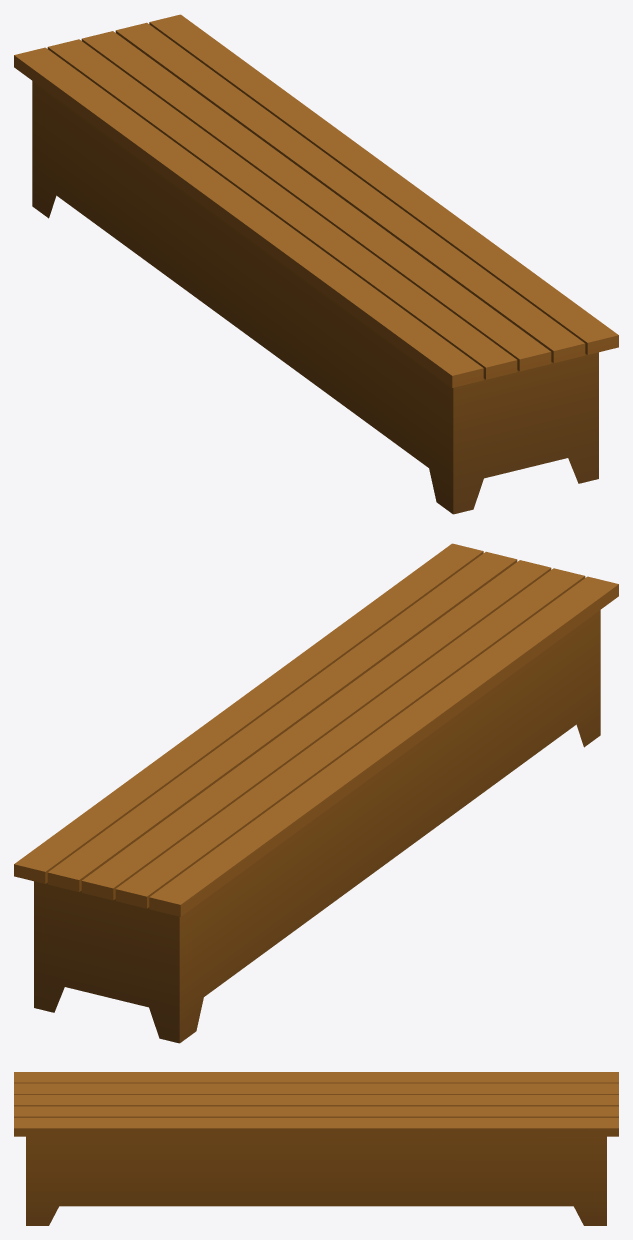
The model's file is CR_Bench_001.FBX.
The picture shows the model from 3 angles, top to bottom: view 1: azimuth 30°, elevation 25°; view 2: azimuth 150°, elevation 25°; view 3: azimuth 270°, elevation 25°; orthographic projection. The views are drawn at different scales.
Visible parts, largest first — view 1: CR_Bench_001; view 2: CR_Bench_001; view 3: CR_Bench_001.
Part boxes in pixels (x1,y1,x2,y2): CR_Bench_001: [14, 14, 618, 514]; CR_Bench_001: [14, 543, 618, 1043]; CR_Bench_001: [14, 1072, 618, 1225].
Bounding box in the file's own units: 42.62 × 35.98 × 194.
1 material, 1 textured.
